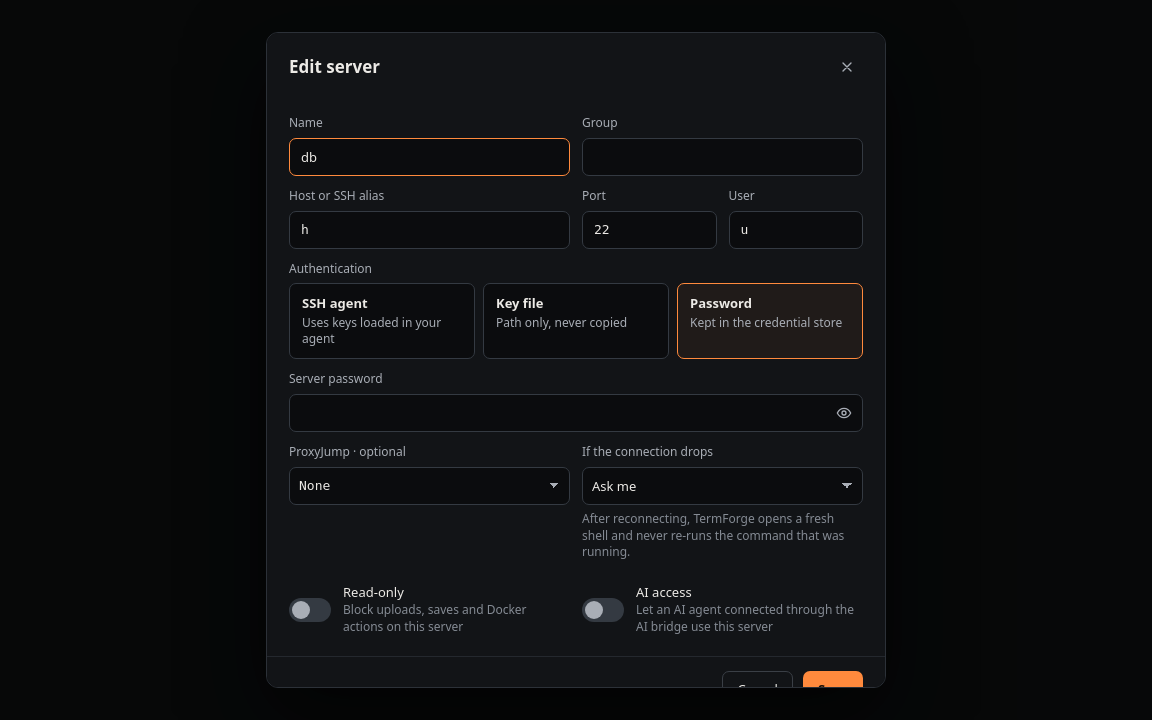
ServerForm password visibility › shows and hides a typed password without loading the stored one
The width and height of the screenshot is (1152, 720).
Type "typed-secret" into the password field labelled "Server password" at (576, 413), box [289,394,863,432]
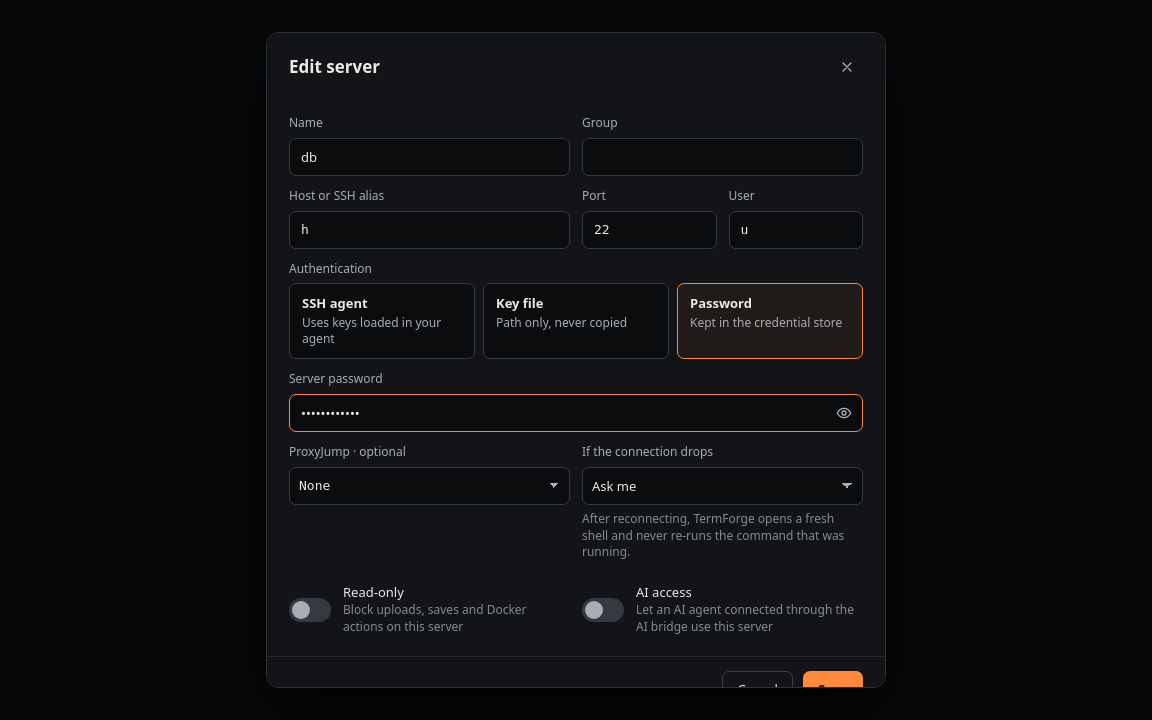
Click the button named "Show password" at (844, 413), box [828,397,860,429]
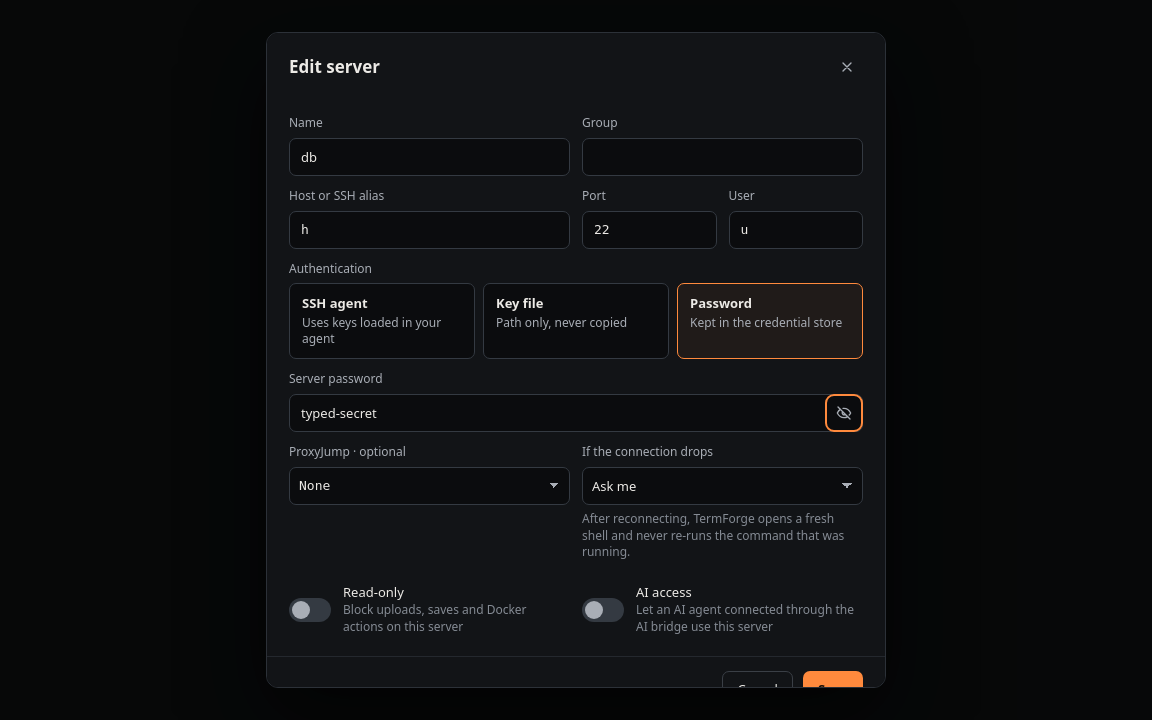
Expected: the field labelled "Server password" shows its text, [289,394,863,432]
Click the button named "Hide password" at (844, 413), box [828,397,860,429]
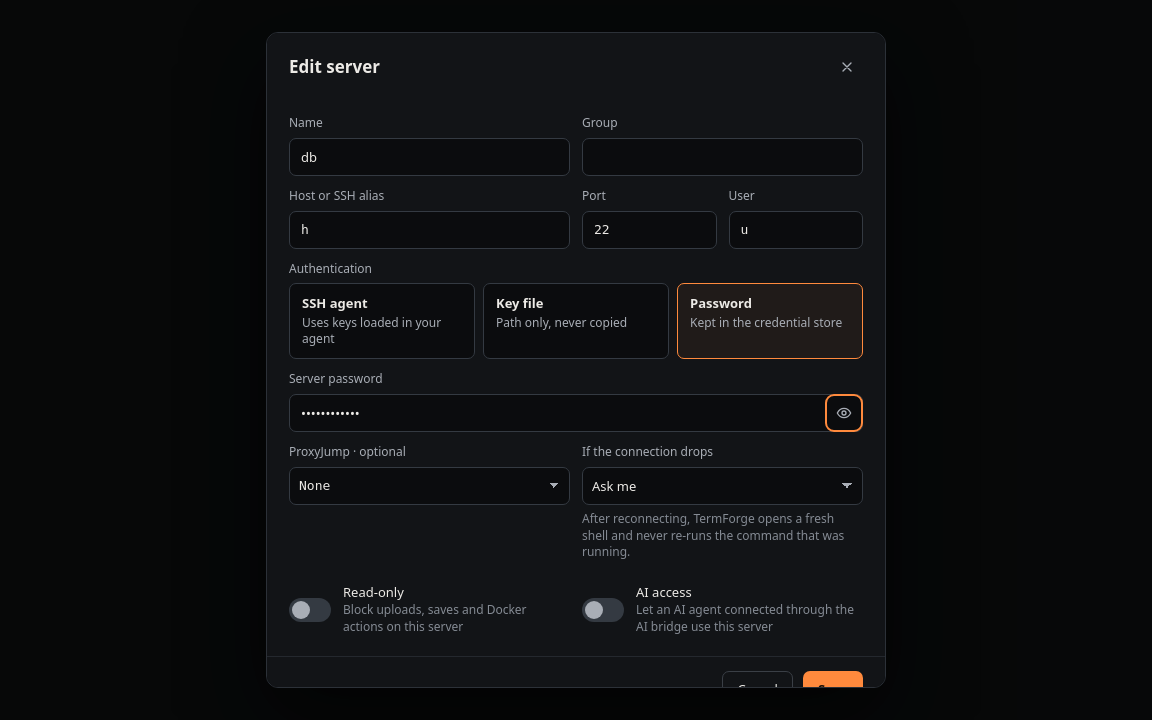
Expected: the password field labelled "Server password" hides its text, [289,394,863,432]
